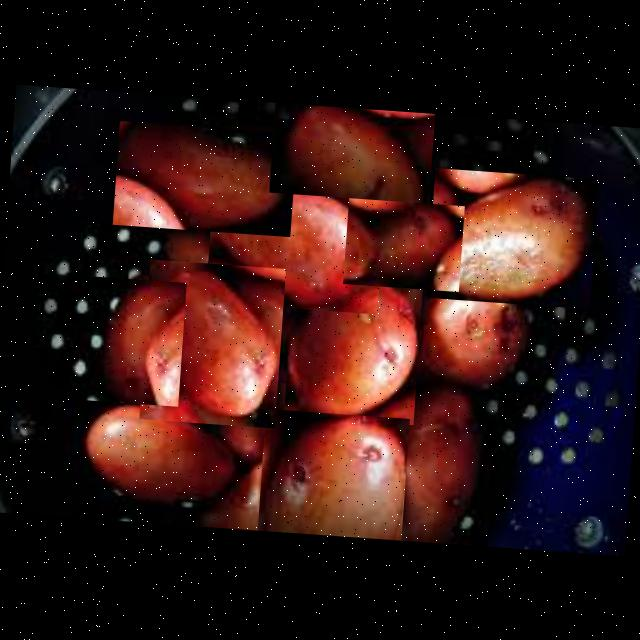Defected potato: (138, 259, 286, 428), (205, 178, 385, 314), (284, 266, 424, 425), (112, 120, 297, 237), (258, 408, 410, 540), (68, 403, 243, 505), (380, 384, 488, 546), (268, 102, 434, 204), (408, 274, 527, 384), (86, 276, 186, 406), (342, 198, 464, 292)
Potato: (426, 168, 598, 308)
